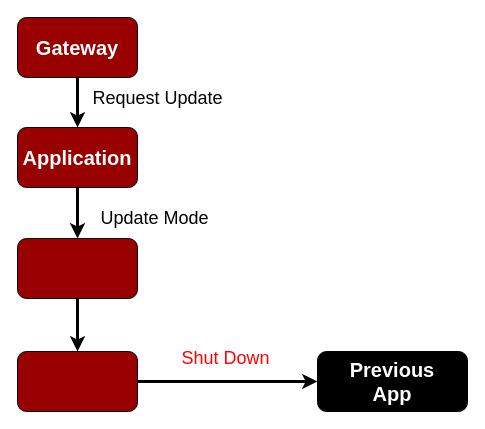
This 485x429 diagram has some shape labels left out. Each missing label, with the box of its shape:
Bootloader: (16, 350, 138, 412)
Reset: (16, 238, 138, 298)
